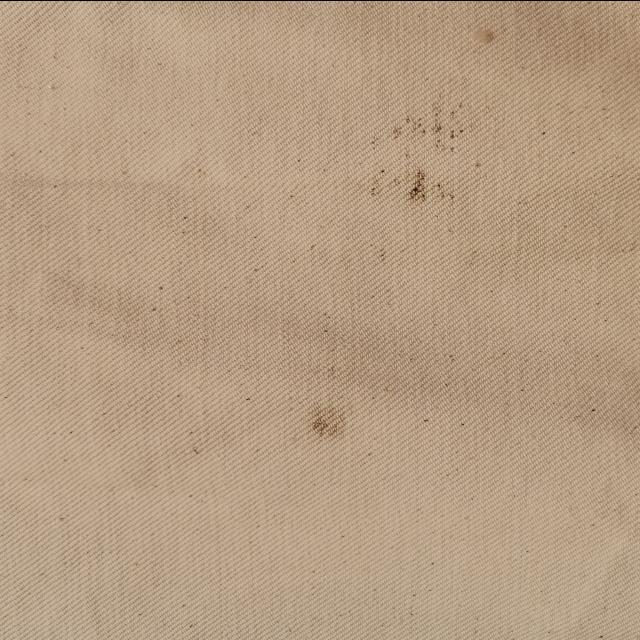taaaches: (391, 111, 477, 155), (384, 164, 460, 204), (295, 405, 358, 439)
